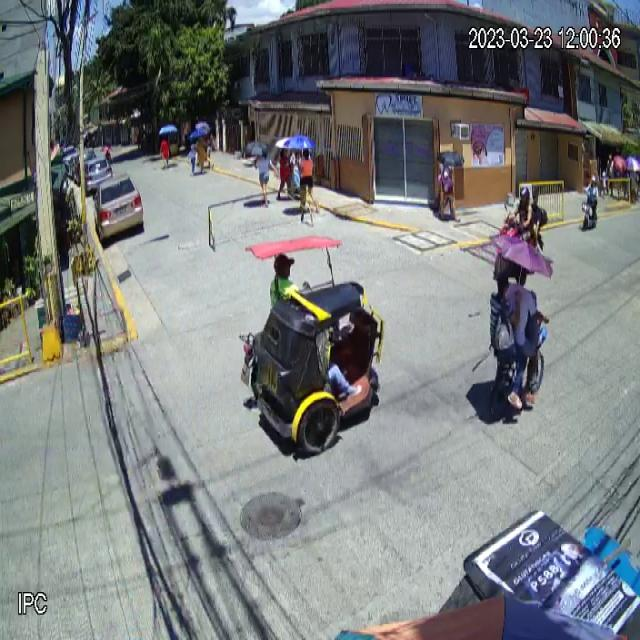Tricycle: (243, 236, 383, 460)
